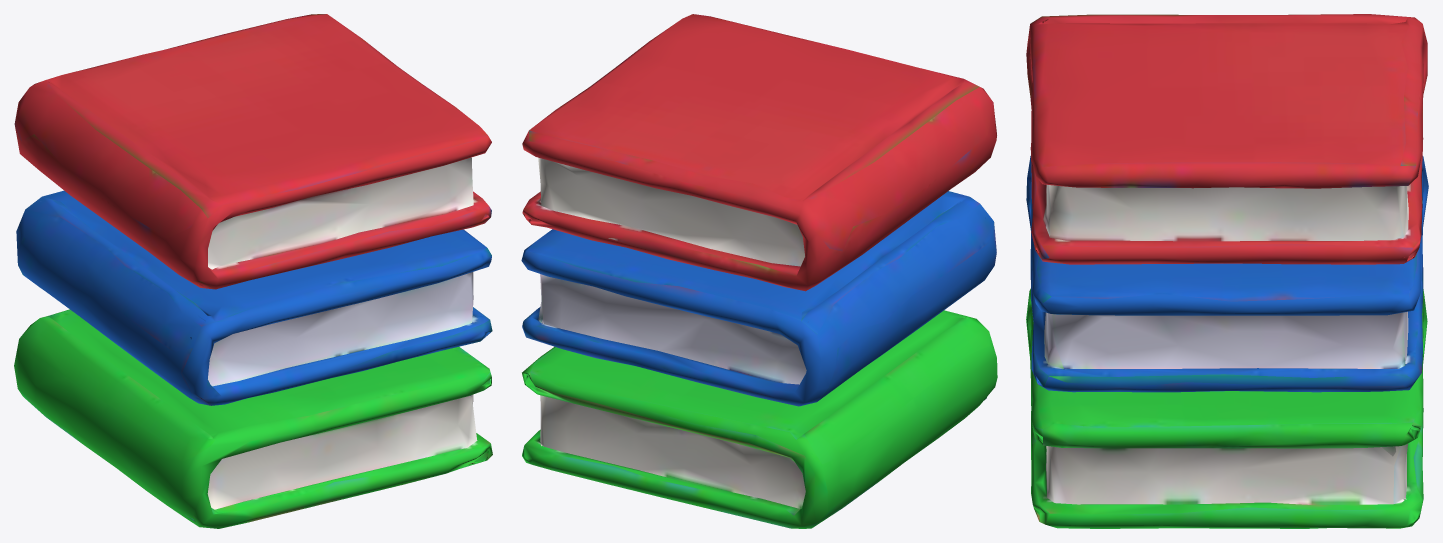
File: books.glb
3 renders of one model, left to right at view 1: azimuth 30°, elevation 25°; view 2: azimuth 150°, elevation 25°; view 3: azimuth 270°, elevation 25°, orthographic. The views are drawn at different scales.
Size of the model in its own units: 0.9989 by 1.01 by 0.9998.
Materials: 1 (1 with a texture image).
